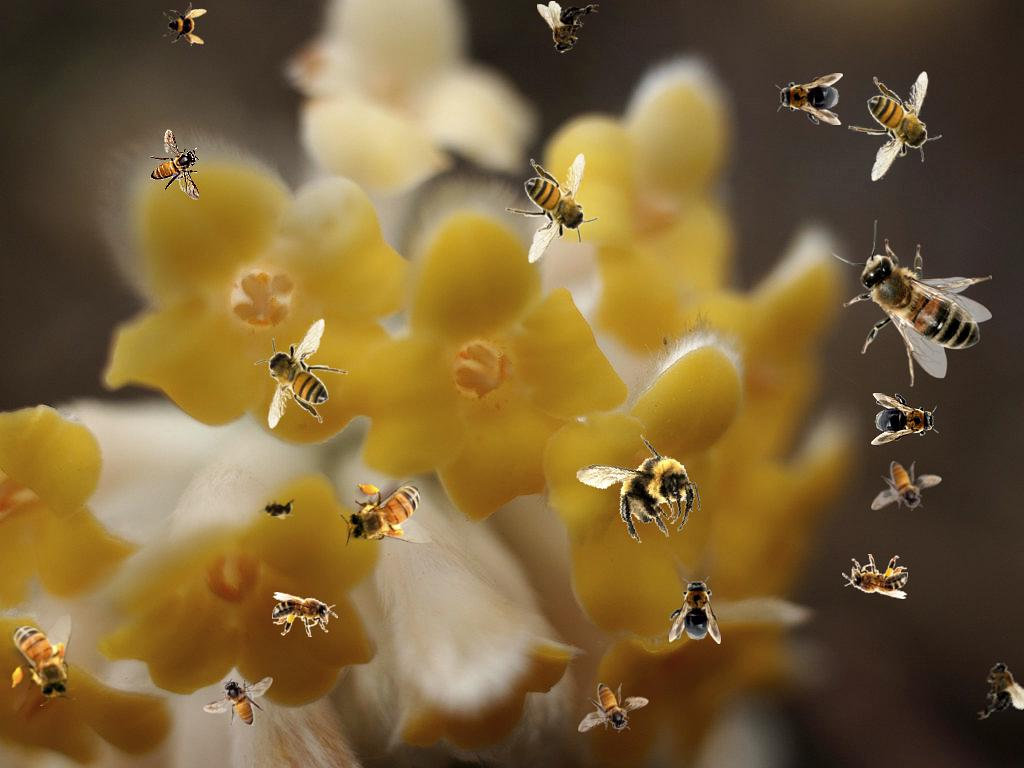Bee: (830, 220, 992, 387), (569, 423, 708, 556), (505, 153, 599, 264), (848, 71, 942, 182), (254, 318, 348, 429), (340, 480, 433, 548), (8, 613, 76, 706), (962, 654, 1024, 724), (202, 675, 274, 728), (578, 683, 649, 733), (871, 461, 942, 511), (150, 129, 200, 200), (669, 576, 721, 644), (775, 73, 843, 125), (871, 393, 939, 445), (537, 1, 599, 54), (842, 554, 908, 599), (272, 592, 338, 637), (163, 2, 207, 46), (258, 498, 298, 520)
